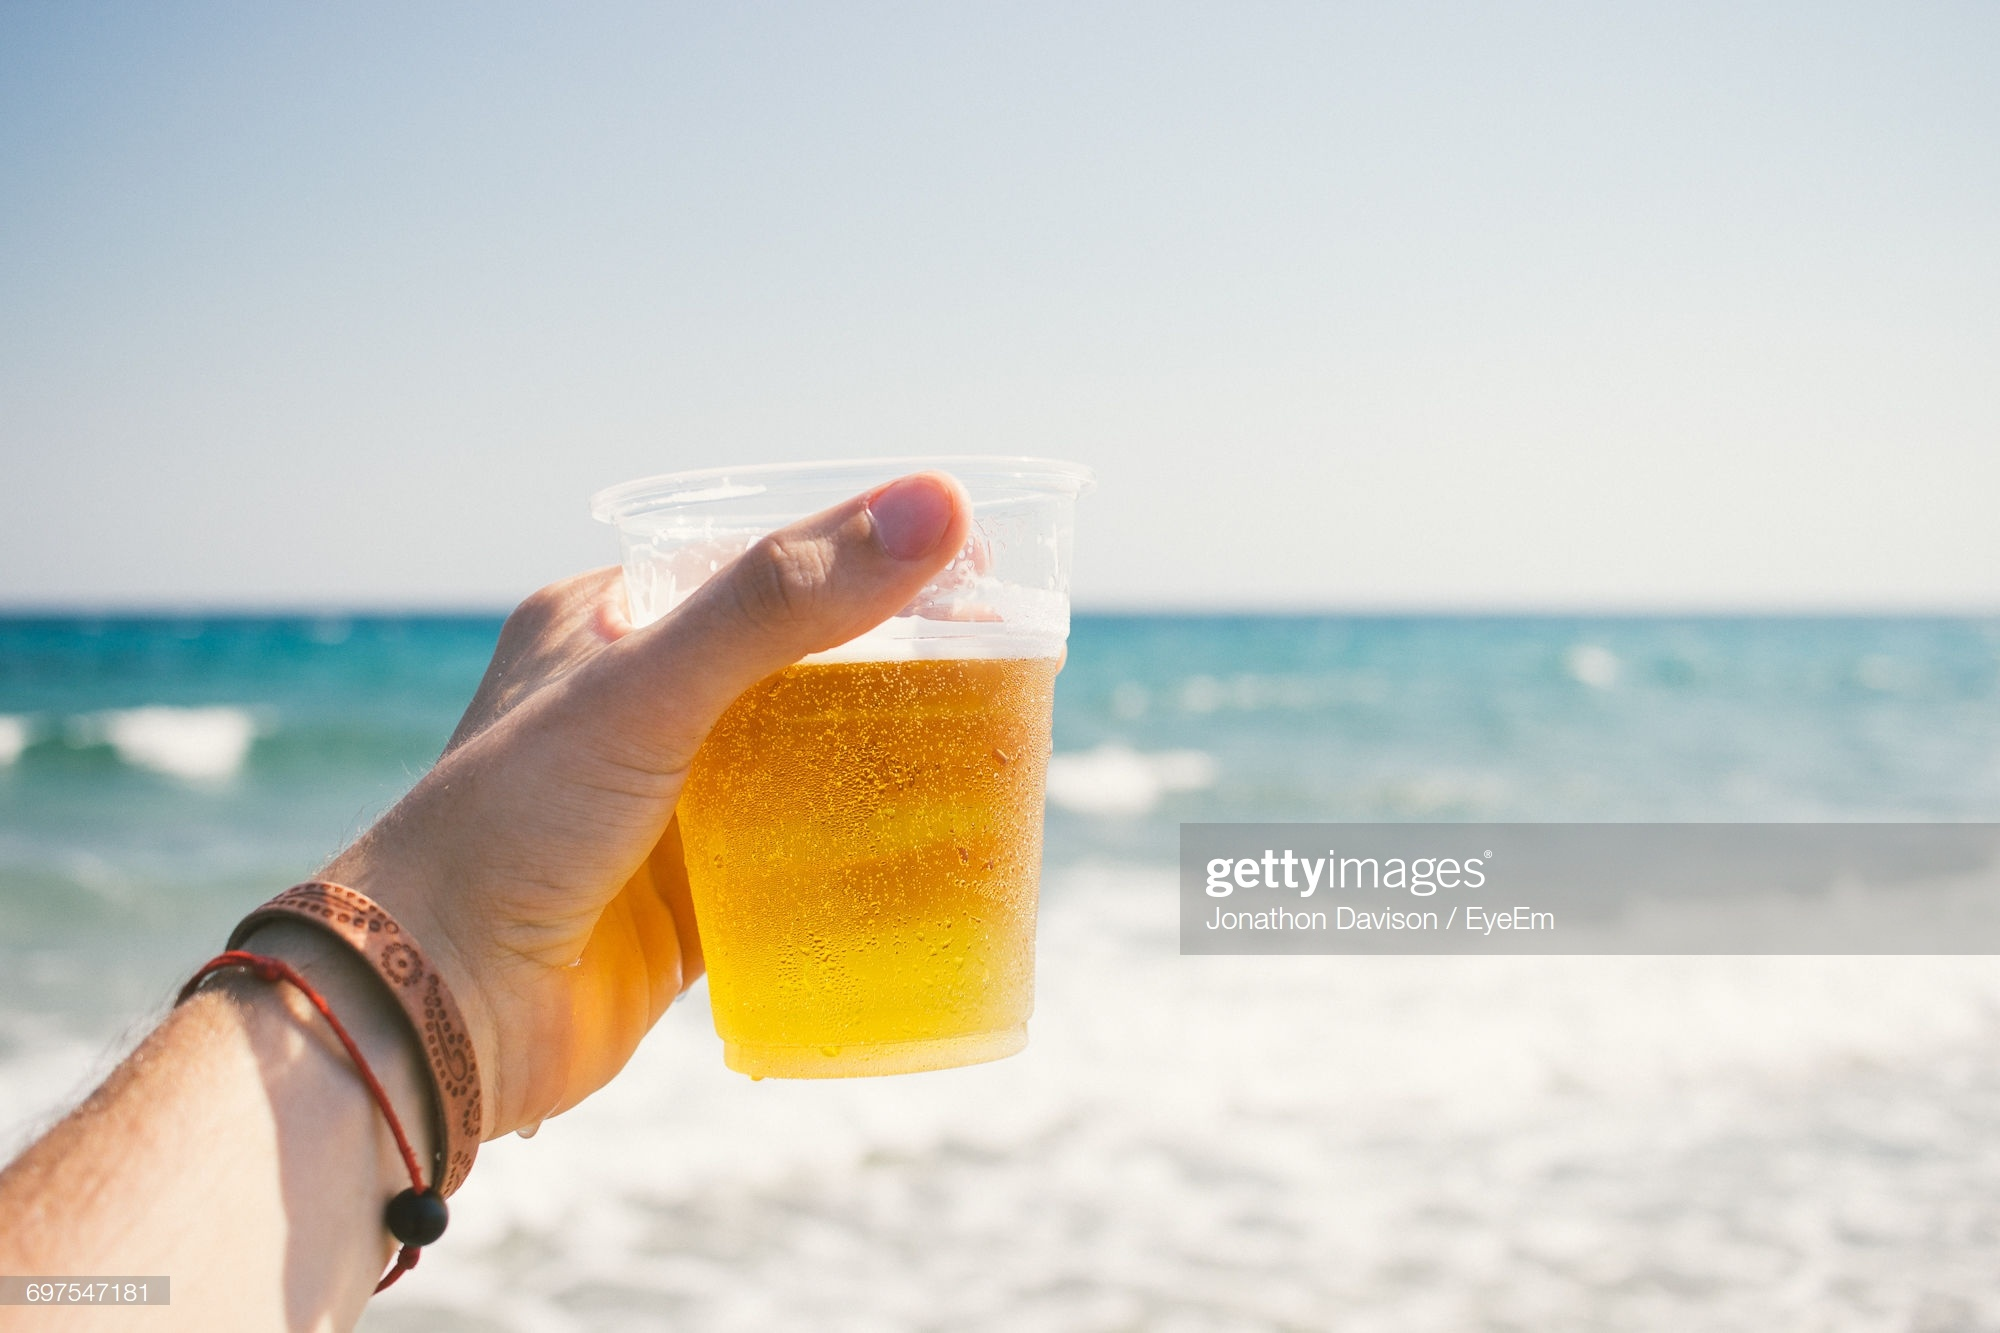glassBeer: (613, 451, 1108, 1088)
